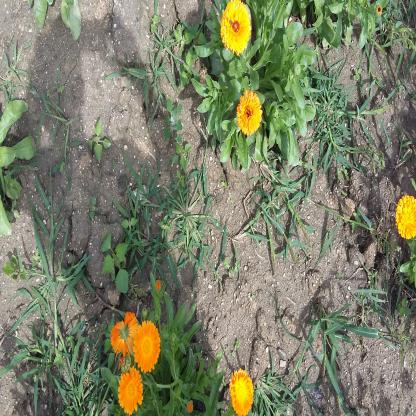marigold: (219, 0, 252, 56), (109, 309, 140, 355), (133, 320, 160, 372), (117, 365, 144, 414), (228, 365, 254, 415), (236, 90, 263, 136), (395, 194, 415, 240)
